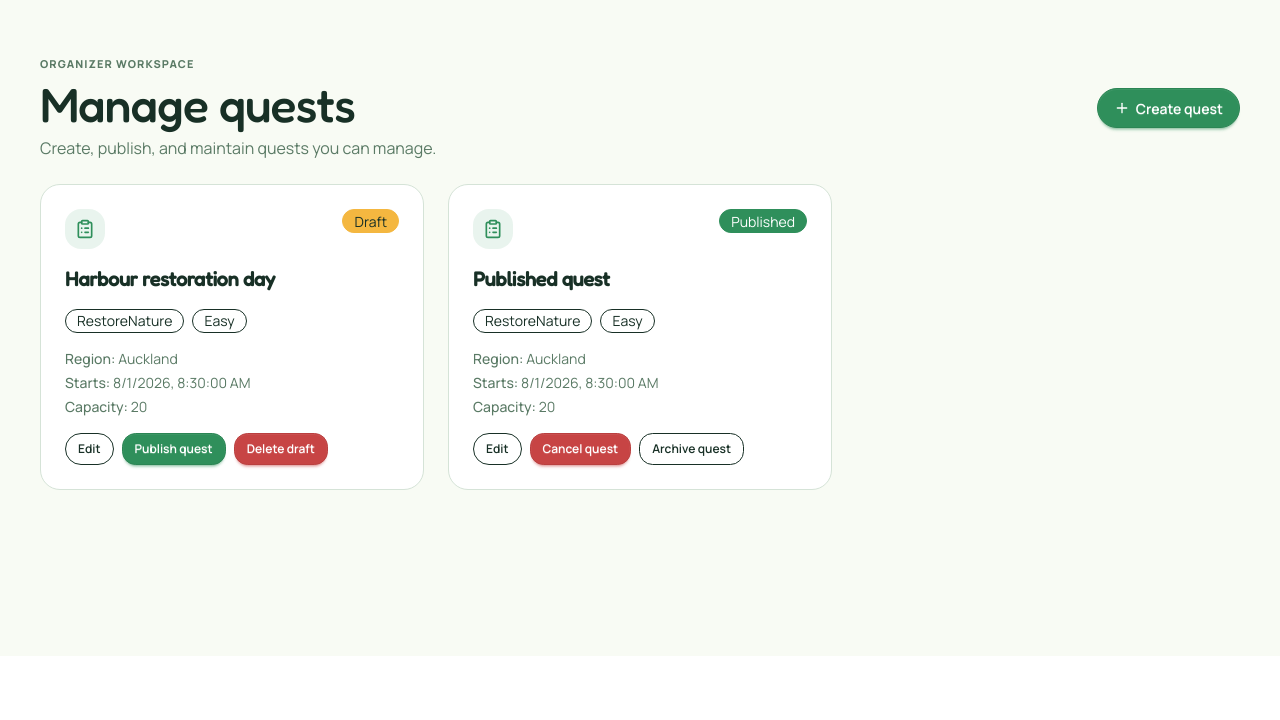
it: Organizer Quest list › confirms Draft deletion and never offers delete for a non-Draft row
Click the button "Delete draft" at (281, 449), box [234,433,328,465]
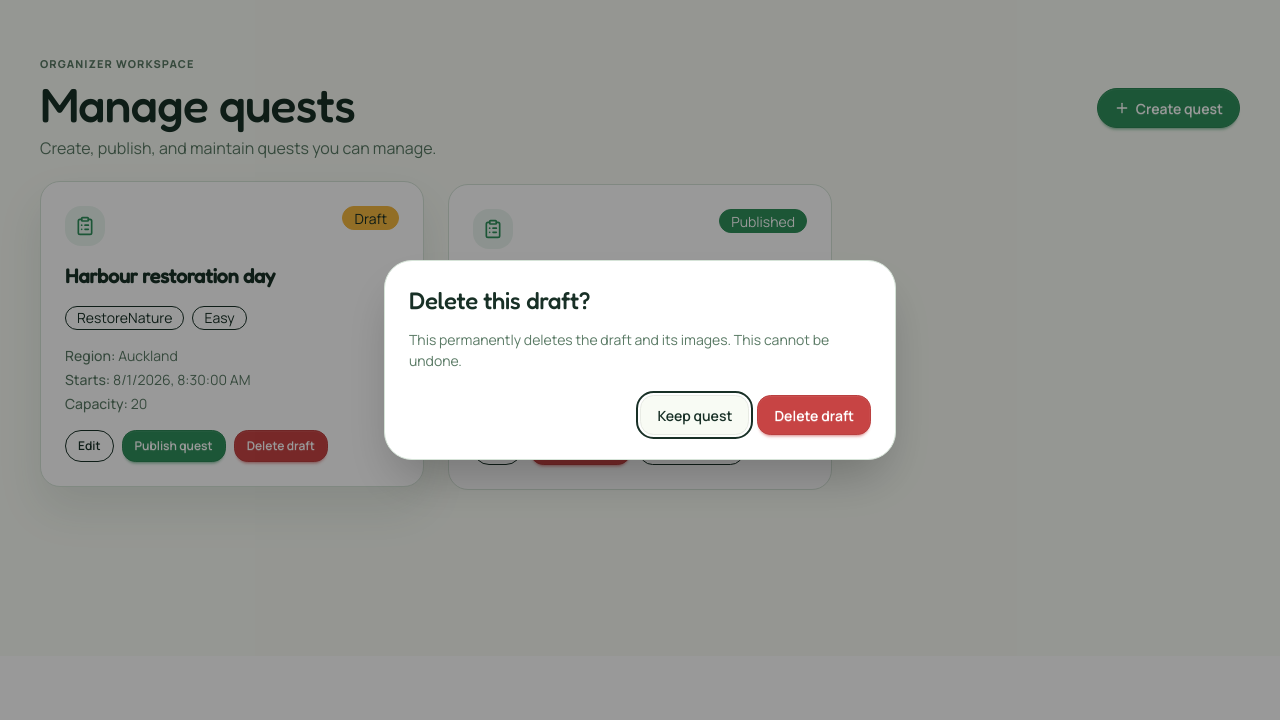
Expected: the heading "Delete this draft?" is shown, [409,286,590,315]
Click the button "Delete draft" at (814, 415), box [757,395,871,435]
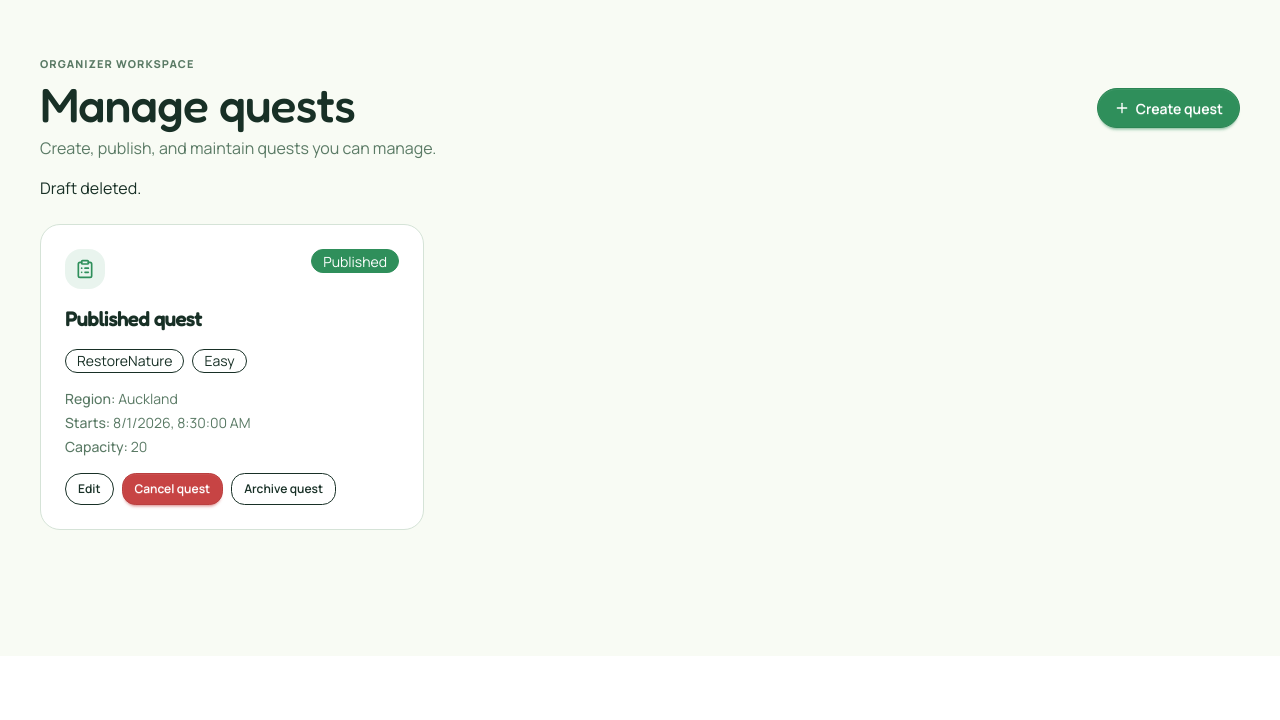
Expected: the text "Draft deleted." is shown, [40,177,141,199]
